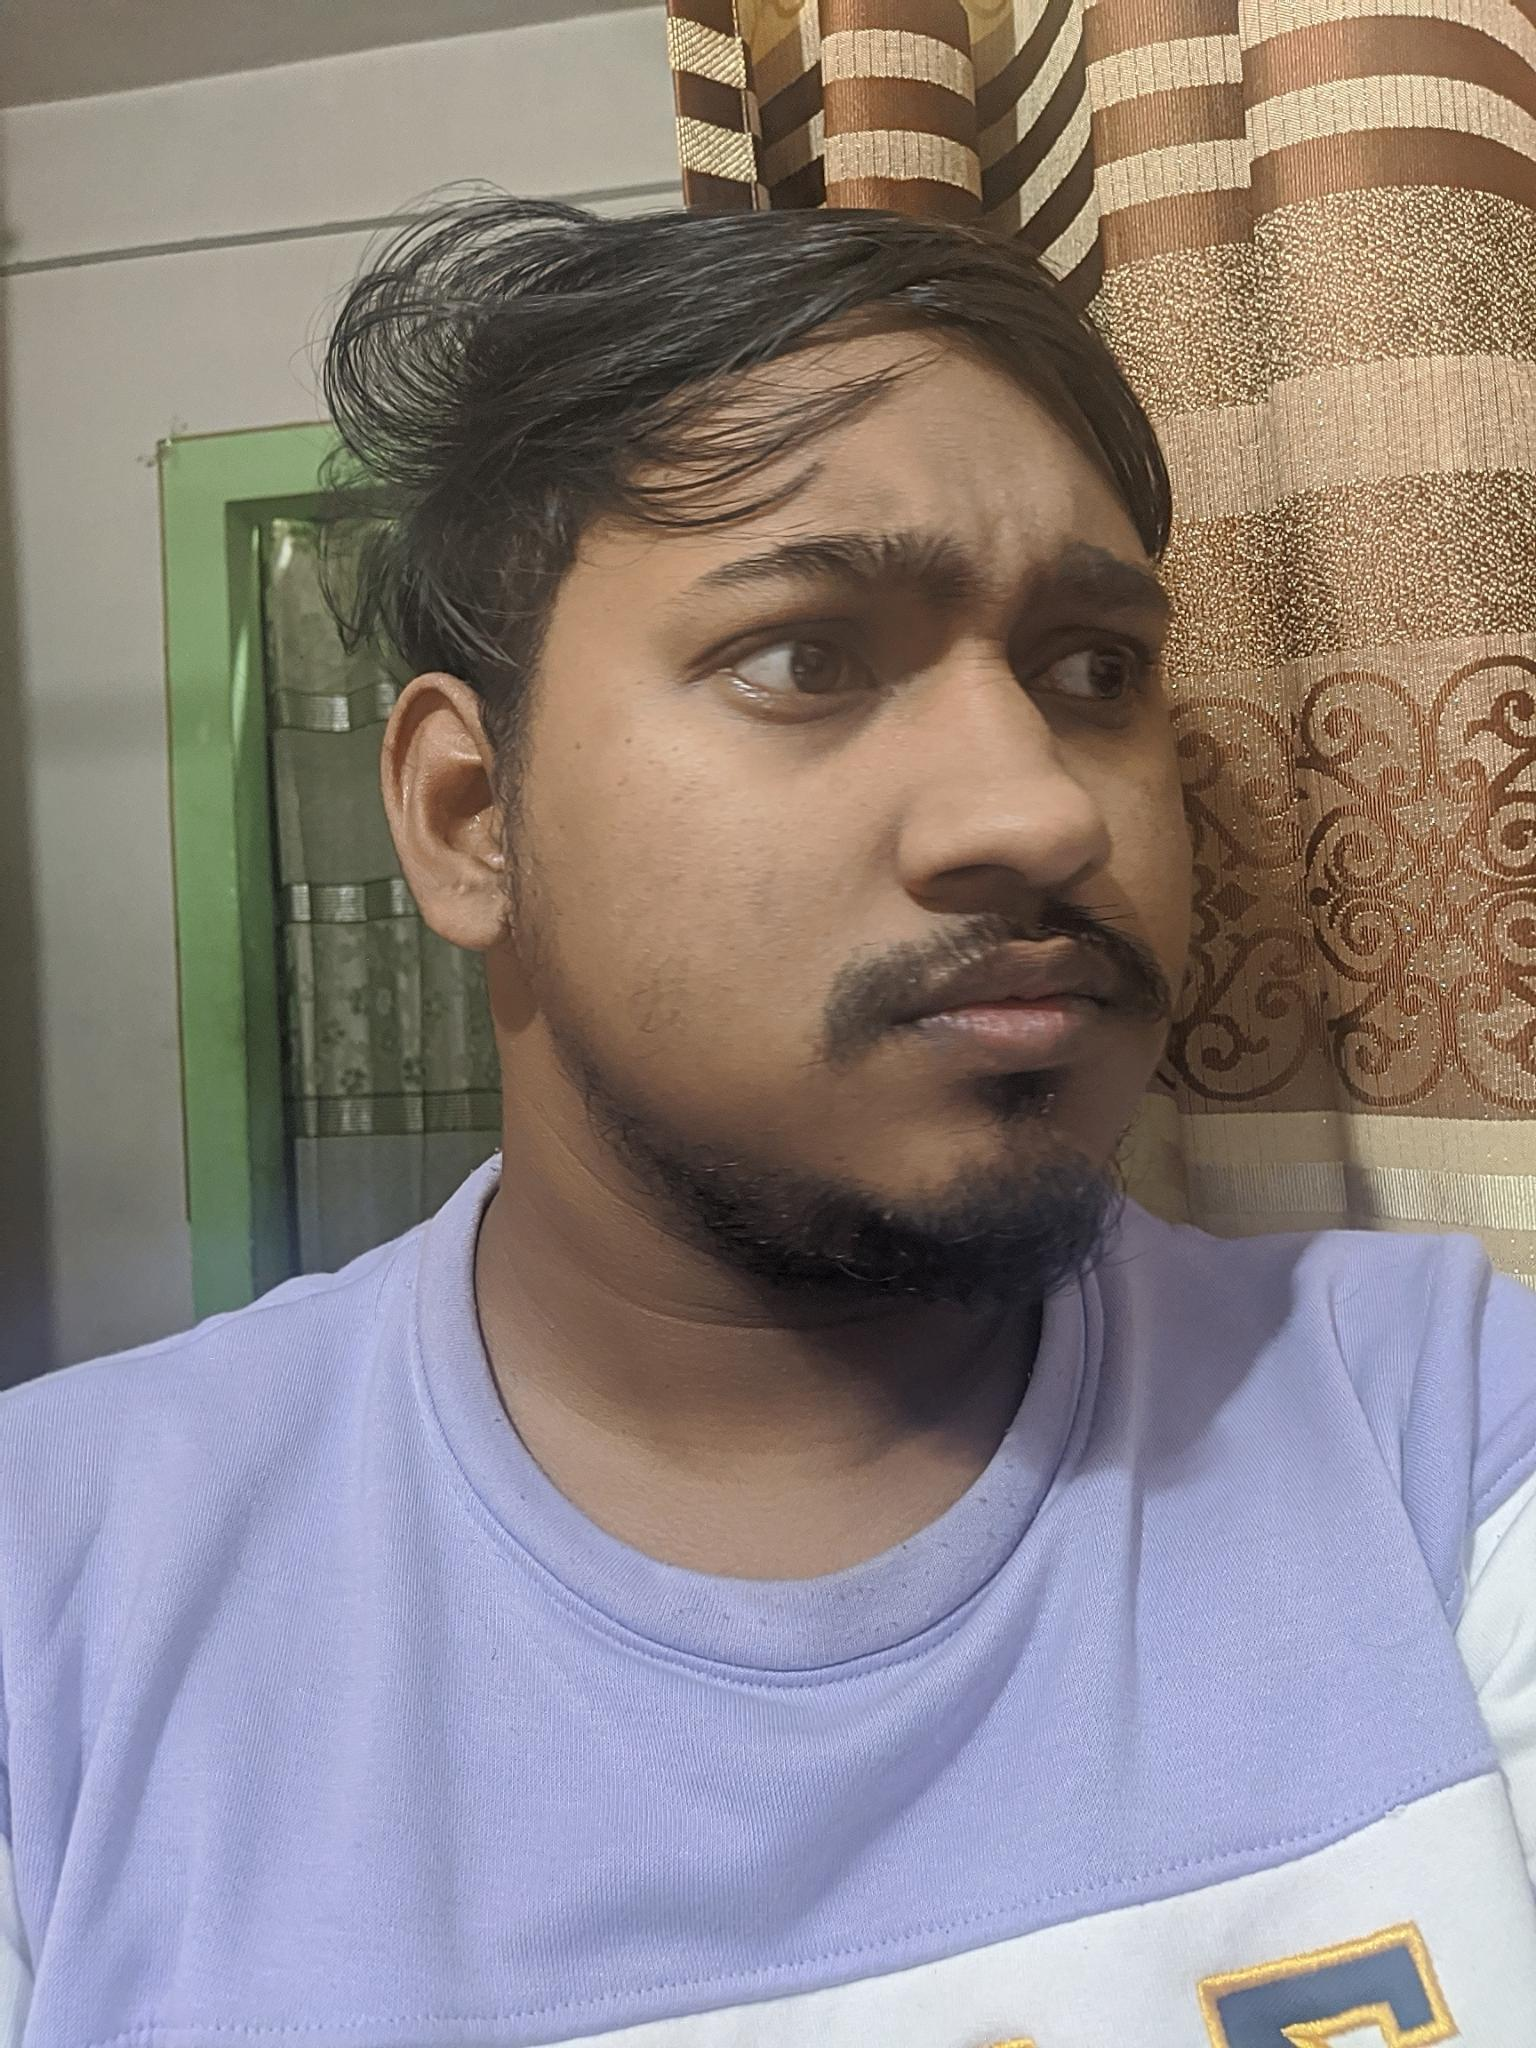Angry: (582, 432, 1262, 1235)
